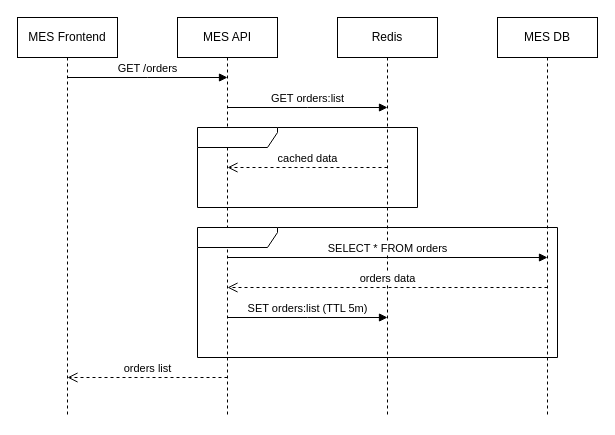
Image size: 615x435. Some labels were removed from this diagram. Each missing label, with the box of its shape:
[cache miss]: (196, 226, 558, 358)
alt [cache hit]: (196, 126, 418, 208)
